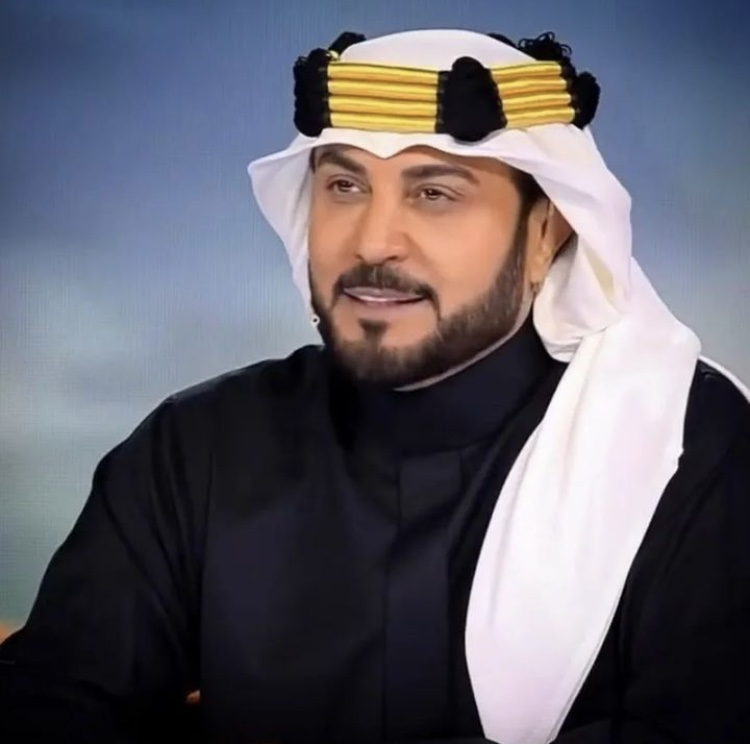Saudi_Founding_Day: (1, 28, 750, 744)
